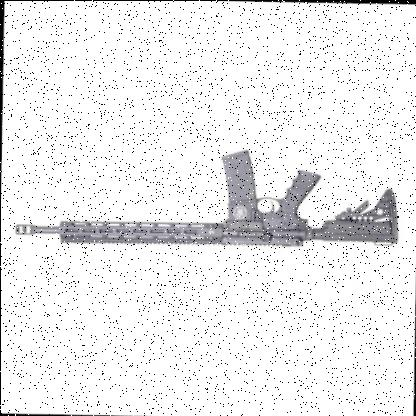rifle: (13, 140, 408, 253)
